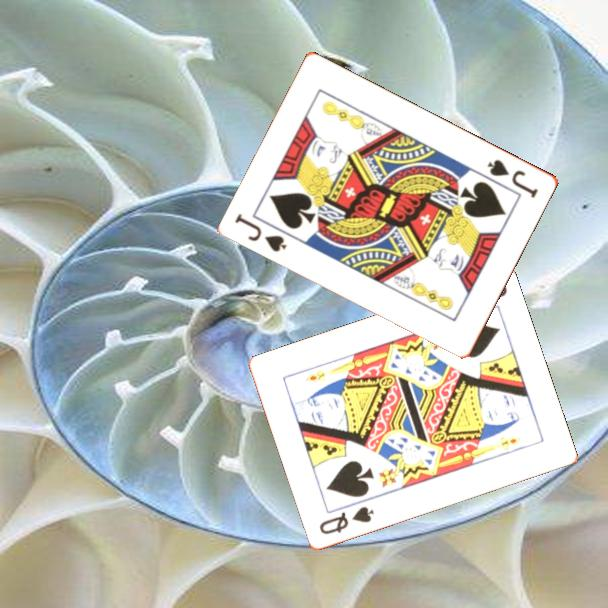s11: (484, 155, 541, 201), (232, 210, 290, 255)
s12: (316, 503, 377, 538)
